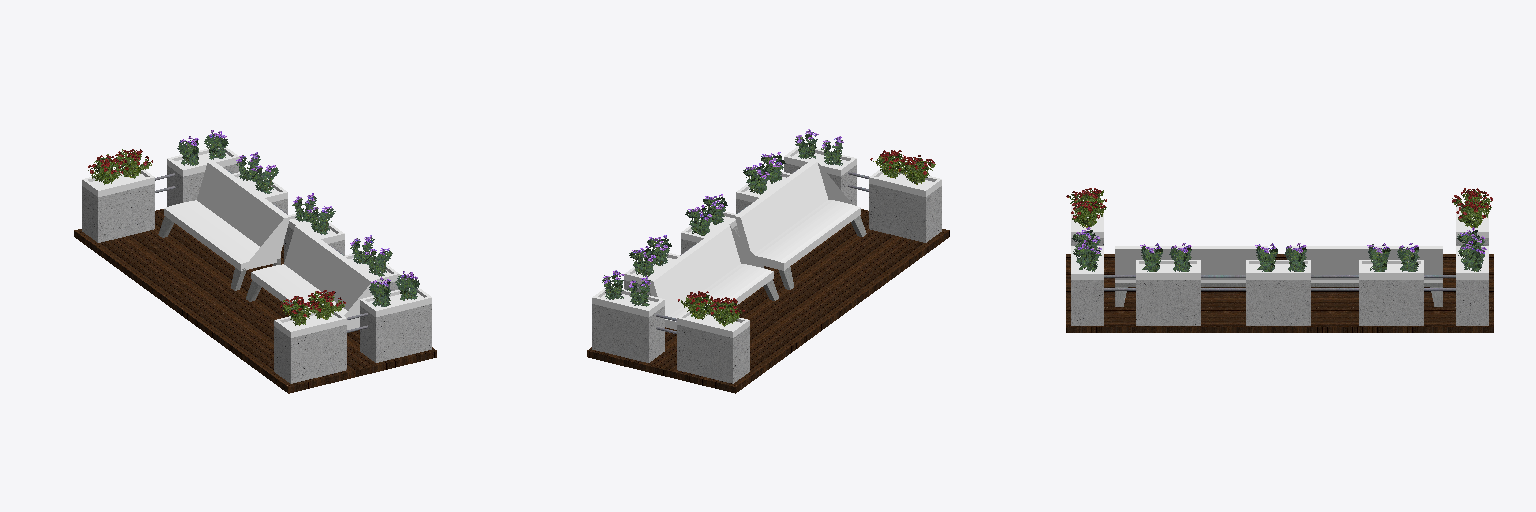
The picture shows the model from 3 angles: view 1: azimuth 30°, elevation 25°; view 2: azimuth 150°, elevation 25°; view 3: azimuth 270°, elevation 25°; orthographic projection.
Visible parts, largest first — view 1: CityEngineShapeMaterial_1, CityEngineShapeMaterial_5, CityEngineShapeMaterial_2, Foliage__leafcard, CityEngineShapeMaterial_4, Foliage, CityEngineShapeMaterial_6, CityEngineShapeMaterial; view 2: CityEngineShapeMaterial_1, CityEngineShapeMaterial_5, CityEngineShapeMaterial_2, Foliage__leafcard, CityEngineShapeMaterial_4, Foliage, CityEngineShapeMaterial_6, CityEngineShapeMaterial; view 3: CityEngineShapeMaterial_2, CityEngineShapeMaterial_1, CityEngineShapeMaterial_5, Foliage__leafcard, CityEngineShapeMaterial_4, Foliage, CityEngineShapeMaterial_6, CityEngineShapeMaterial_3, CityEngineShapeMaterial.
Boxes of the visible parts, <box> form: CityEngineShapeMaterial_1: <box>74,209,436,393</box>; CityEngineShapeMaterial_5: <box>164,161,377,329</box>; CityEngineShapeMaterial_2: <box>82,163,431,383</box>; Foliage__leafcard: <box>177,130,419,306</box>; CityEngineShapeMaterial_4: <box>82,147,431,337</box>; Foliage: <box>88,149,345,325</box>; CityEngineShapeMaterial_6: <box>91,153,423,329</box>; CityEngineShapeMaterial: <box>158,216,280,301</box>; CityEngineShapeMaterial_1: <box>587,209,949,393</box>; CityEngineShapeMaterial_5: <box>648,160,860,329</box>; CityEngineShapeMaterial_2: <box>592,163,941,383</box>; Foliage__leafcard: <box>602,129,843,306</box>; CityEngineShapeMaterial_4: <box>592,146,941,337</box>; Foliage: <box>678,150,935,326</box>; CityEngineShapeMaterial_6: <box>601,152,932,329</box>; CityEngineShapeMaterial: <box>763,216,866,300</box>; CityEngineShapeMaterial_2: <box>1071,238,1488,325</box>; CityEngineShapeMaterial_1: <box>1066,254,1493,332</box>; CityEngineShapeMaterial_5: <box>1115,246,1442,282</box>; Foliage__leafcard: <box>1072,227,1486,271</box>; CityEngineShapeMaterial_4: <box>1071,205,1488,279</box>; Foliage: <box>1066,188,1492,227</box>; CityEngineShapeMaterial_6: <box>1075,209,1484,271</box>; CityEngineShapeMaterial_3: <box>1086,242,1455,290</box>; CityEngineShapeMaterial: <box>1115,283,1442,306</box>.
Size of the model in its own units: 2.46 by 1.29 by 6.13.
11 materials, 7 textured.